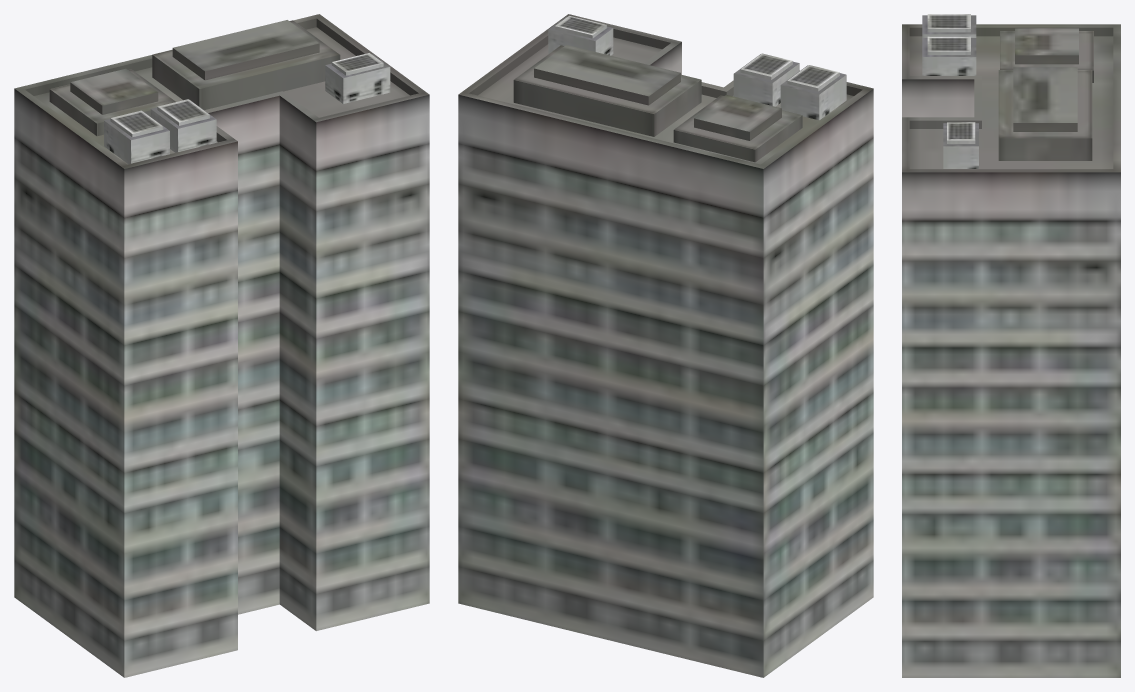
3 renders of one model, left to right at view 1: azimuth 30°, elevation 25°; view 2: azimuth 150°, elevation 25°; view 3: azimuth 270°, elevation 25°, orthographic.
Bounding box in the file's own units: 0.2394 × 0.399 × 0.1496.
Materials: 1 (1 with a texture image).
